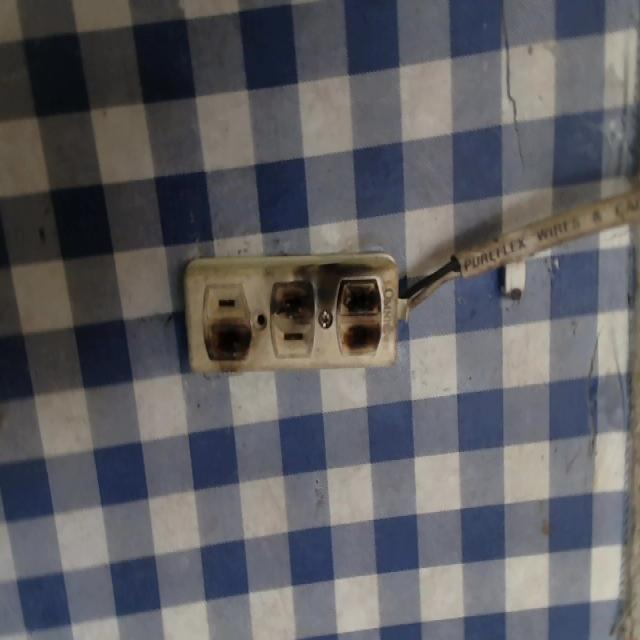-: (332, 265, 394, 367), (199, 316, 260, 373), (266, 268, 319, 327)
